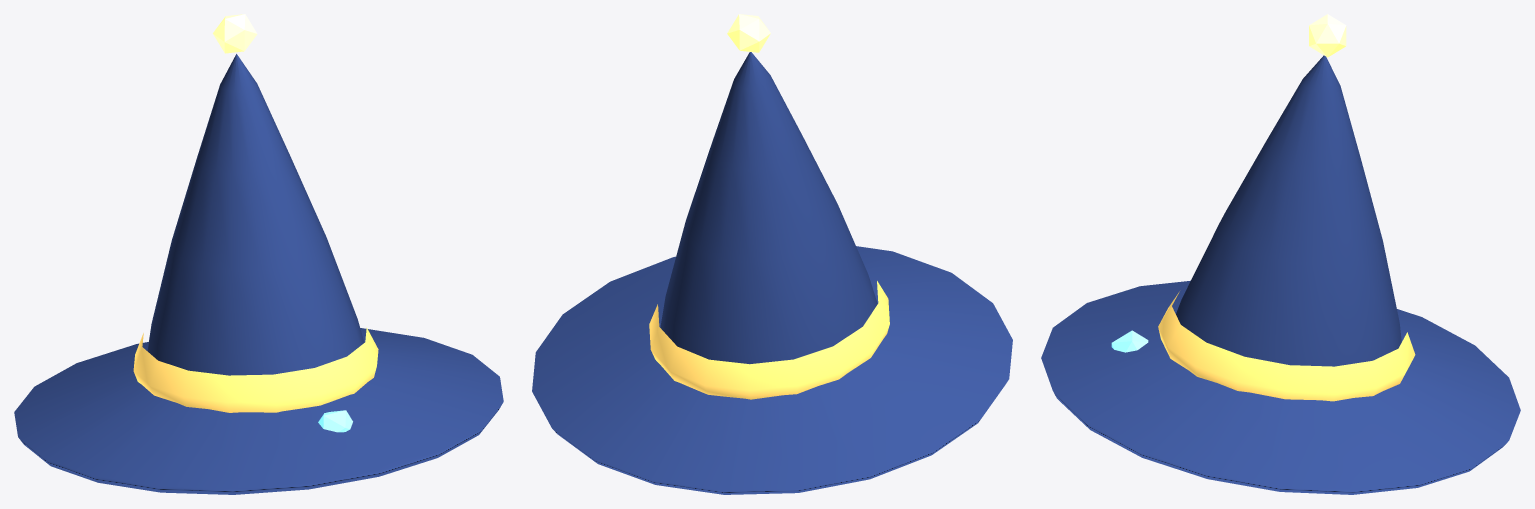
File: karmian_hat.glb
3 views of the same model, side by side, from view 1: azimuth 30°, elevation 25°; view 2: azimuth 150°, elevation 25°; view 3: azimuth 270°, elevation 25° (orthographic). The views are drawn at different scales.
Visible parts, largest first — view 1: kh_brim, kh_cone, kh_band, kh_star, kh_gem; view 2: kh_brim, kh_cone, kh_band, kh_star; view 3: kh_brim, kh_cone, kh_band, kh_star, kh_gem.
Part boxes in pixels (left/top/right/bottom): kh_brim: left=14, top=328, right=503, bottom=494; kh_cone: left=147, top=54, right=364, bottom=375; kh_band: left=133, top=327, right=378, bottom=412; kh_star: left=213, top=14, right=257, bottom=53; kh_gem: left=318, top=410, right=352, bottom=432; kh_brim: left=532, top=246, right=1012, bottom=494; kh_cone: left=660, top=52, right=877, bottom=364; kh_band: left=649, top=281, right=889, bottom=399; kh_star: left=727, top=14, right=770, bottom=52; kh_brim: left=1041, top=280, right=1520, bottom=494; kh_cone: left=1176, top=55, right=1401, bottom=366; kh_band: left=1158, top=291, right=1415, bottom=401; kh_star: left=1309, top=14, right=1346, bottom=57; kh_gem: left=1111, top=330, right=1148, bottom=352.
Bounding box in the file's own units: 0.44 × 0.4007 × 0.4368.
